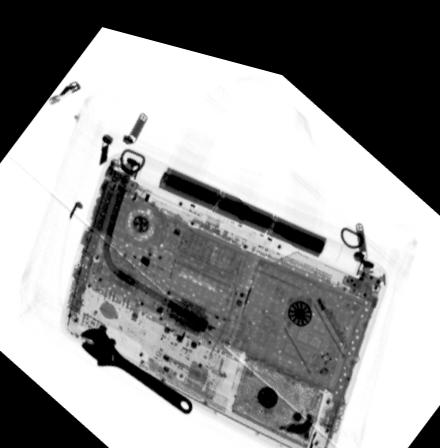Wrench: (78, 318, 194, 402)
